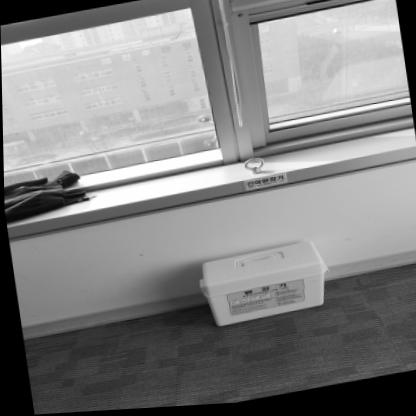DDL: (195, 242, 328, 330)
